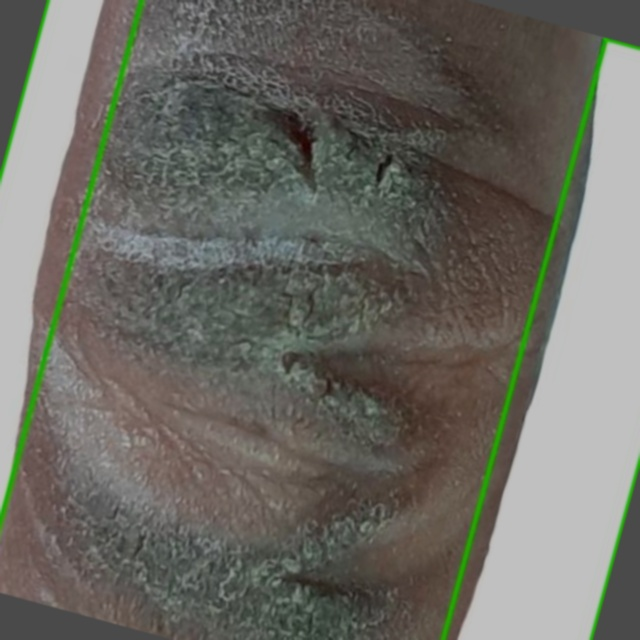Contact Dermatitis: (442, 38, 639, 639)
